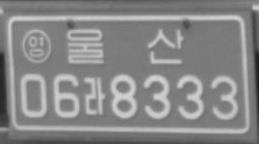0: (19, 72, 48, 119)
3: (176, 73, 205, 121), (210, 74, 239, 120), (143, 73, 171, 119)
6: (52, 72, 80, 118)
8: (110, 73, 138, 119)
라: (83, 75, 105, 116)
영: (21, 28, 52, 64)
울산_D: (66, 27, 184, 66)
